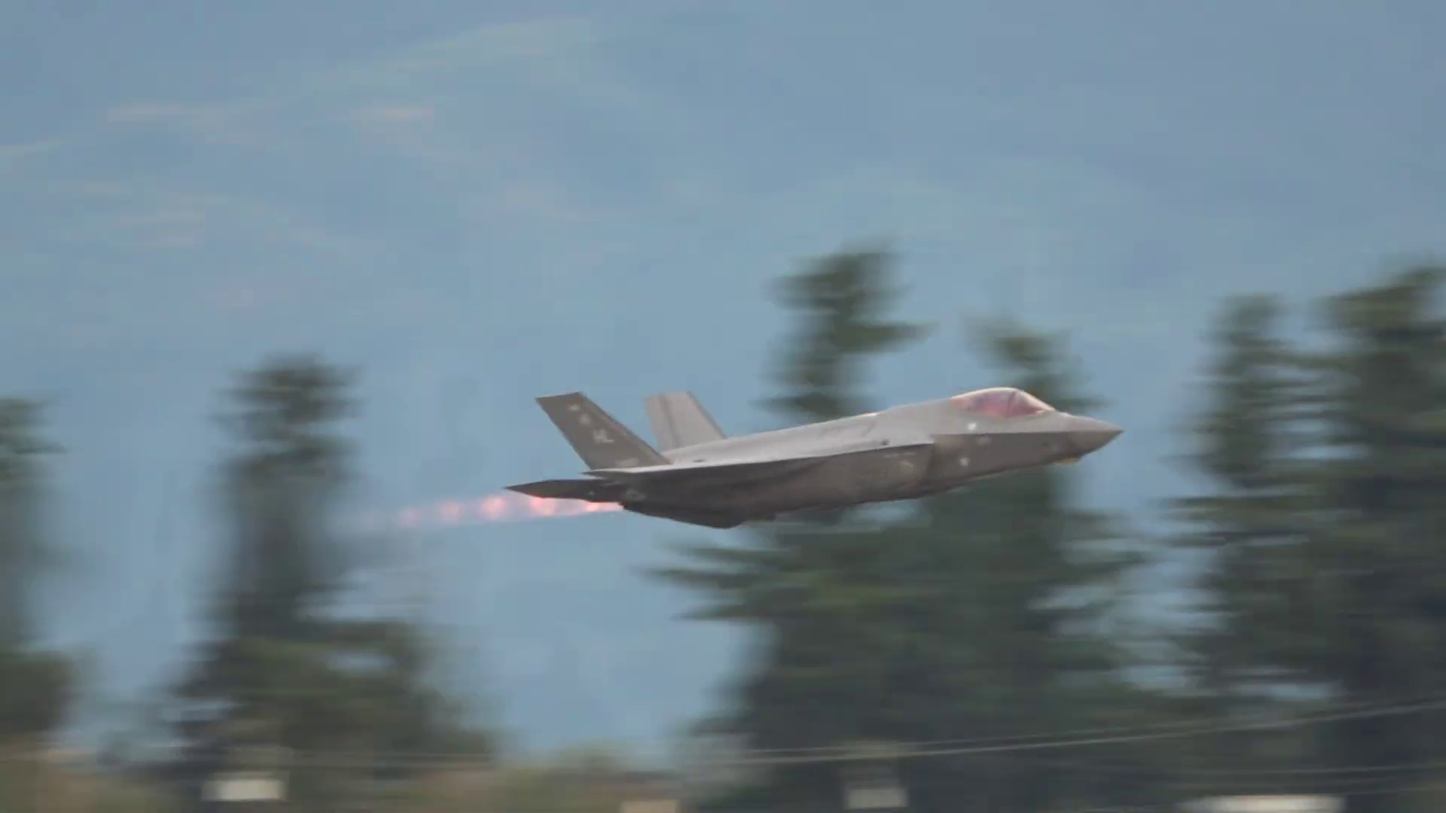F35: (499, 388, 1125, 532)
